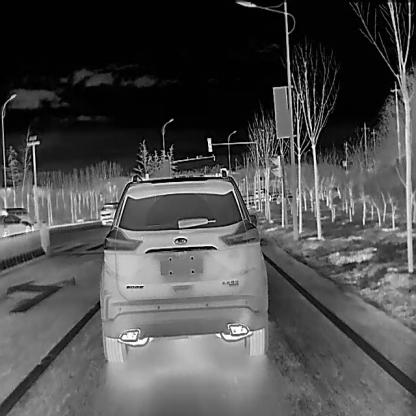car: (98, 167, 268, 362), (0, 213, 34, 238), (1, 206, 34, 225), (98, 201, 121, 225), (254, 187, 271, 202)
